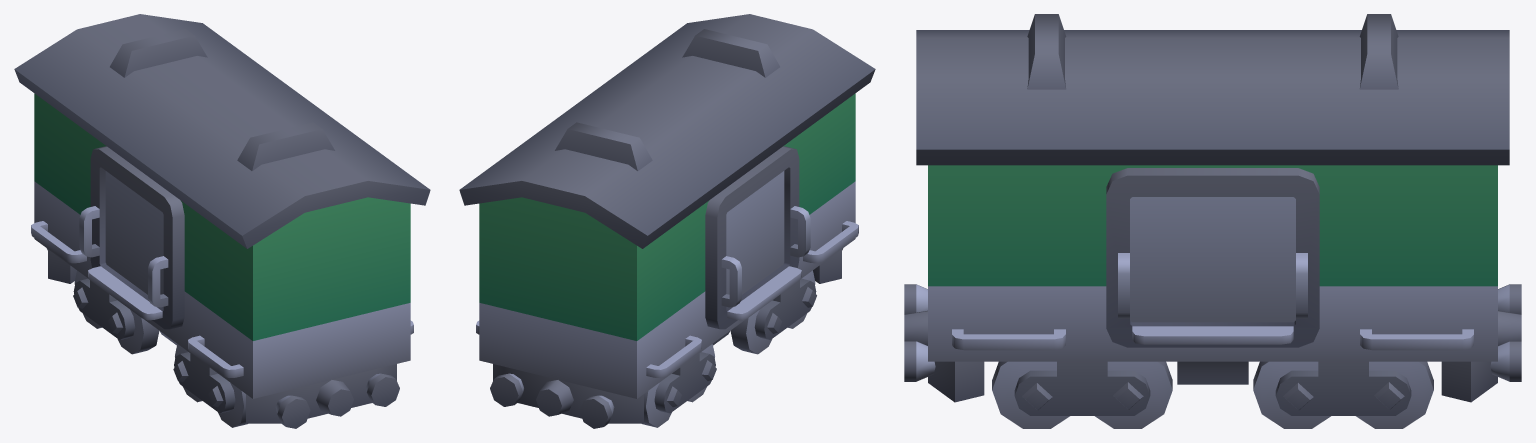
Rendered from train-diesel-box-c.glb.
3 views of the same model, side by side, from view 1: azimuth 30°, elevation 25°; view 2: azimuth 150°, elevation 25°; view 3: azimuth 270°, elevation 25° (orthographic). The views are drawn at different scales.
Parts seen in each view (by area): view 1: train-diesel-box-c, wheels-back, wheels-front; view 2: train-diesel-box-c, wheels-front, wheels-back; view 3: train-diesel-box-c, wheels-back, wheels-front.
Part boxes in pixels (bbox=[...]): train-diesel-box-c: bbox=[14, 14, 430, 428]; wheels-back: bbox=[73, 270, 159, 354]; wheels-front: bbox=[173, 344, 247, 427]; train-diesel-box-c: bbox=[459, 14, 875, 428]; wheels-front: bbox=[730, 270, 816, 354]; wheels-back: bbox=[642, 344, 716, 427]; train-diesel-box-c: bbox=[904, 14, 1521, 402]; wheels-back: bbox=[1253, 361, 1433, 428]; wheels-front: bbox=[992, 361, 1172, 428].
Bounding box in the file's own units: 1.35 × 1.65 × 2.6.
